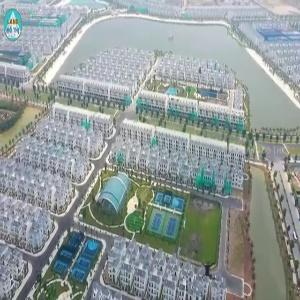drone: (188, 249, 234, 295)
